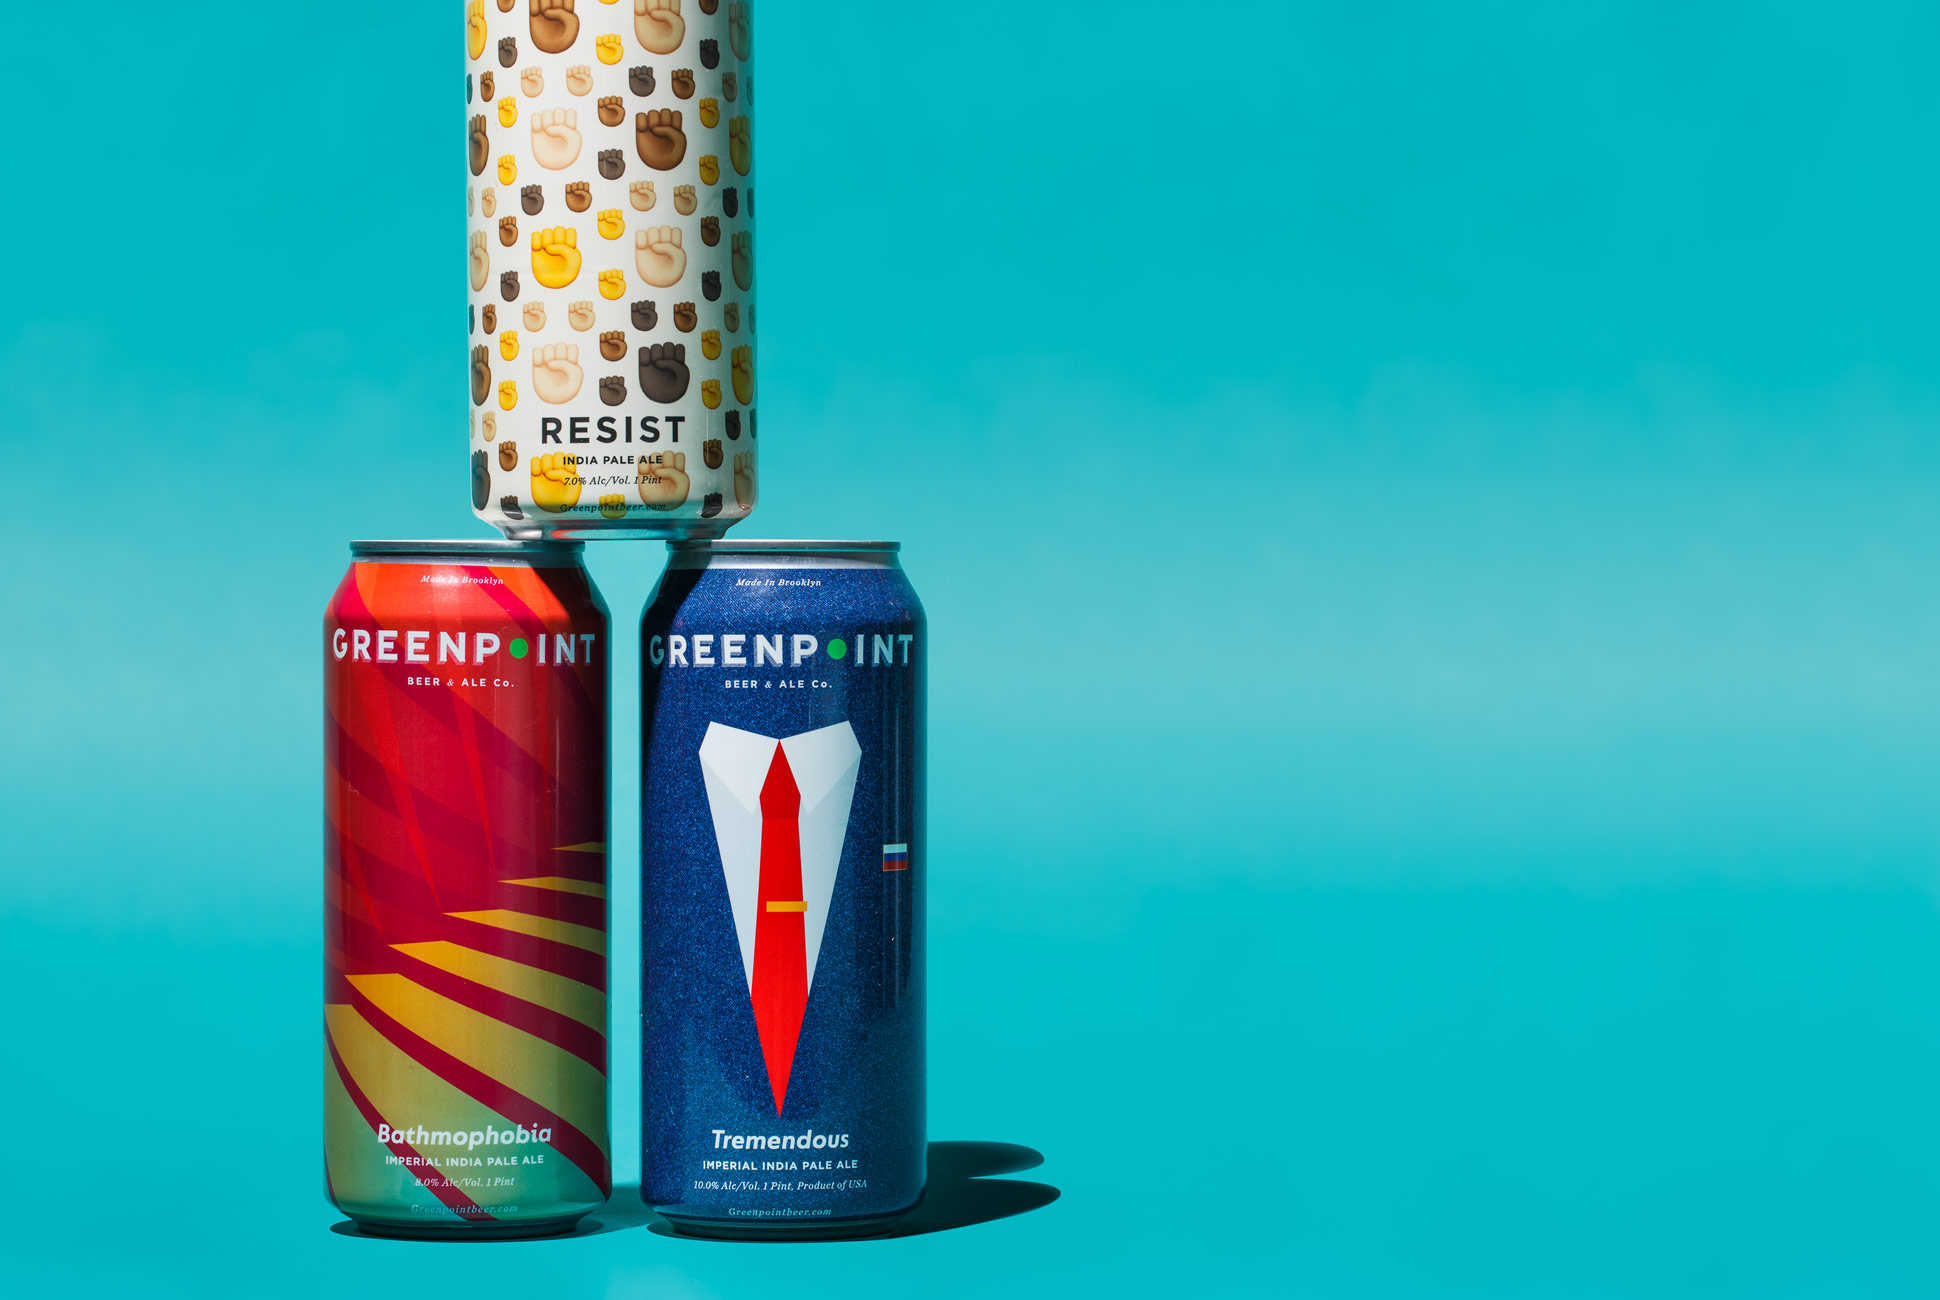beer can: (313, 538, 614, 1236), (638, 538, 930, 1239), (460, 1, 760, 541)
